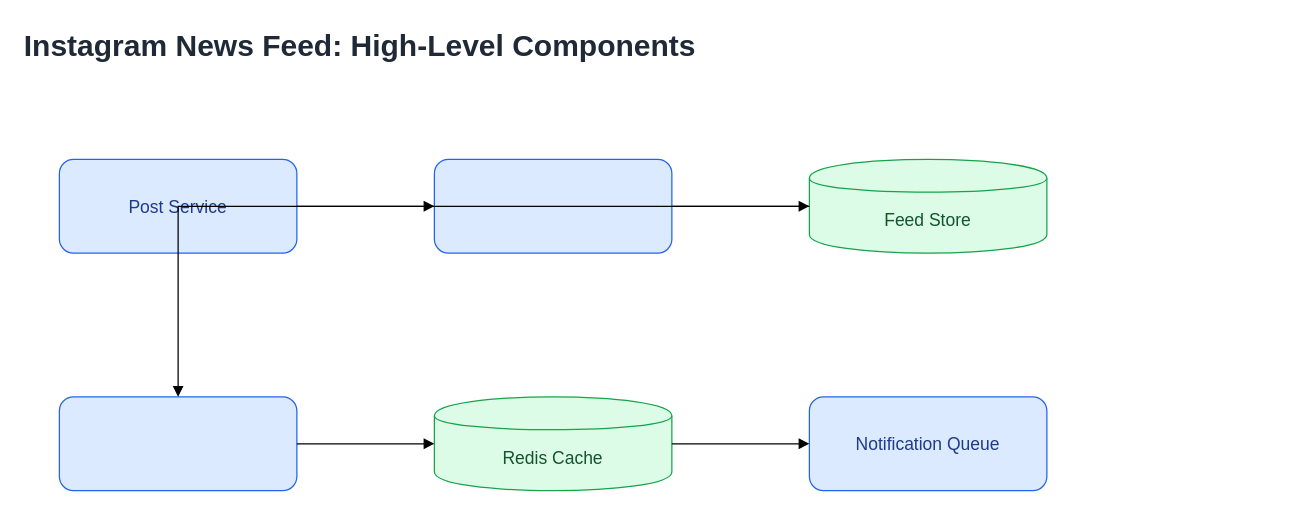
Some shapes in this 1293 by 513 pixel diagram are drawn without their labels. The shapes that lost their labels are listed below. From the top down, each one's centre as x and y in pixels, then its label:
At point (552, 205): "Fanout Workers".
At point (177, 443): "Ranking Service".
